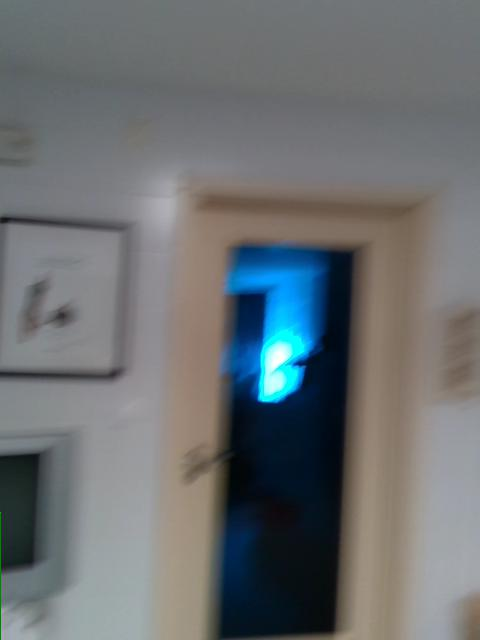closed_door: (156, 187, 431, 639)
